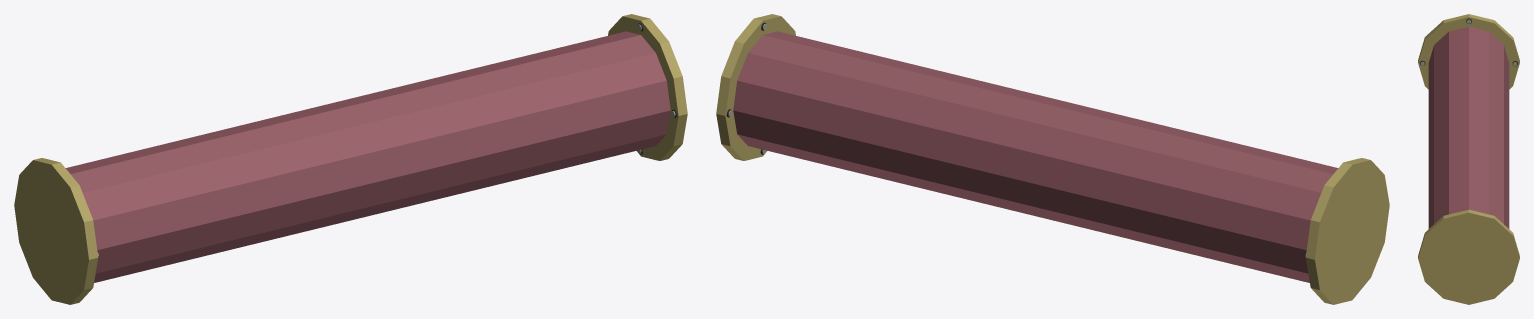
The model's file is Pipe_Long.fbx.
The picture shows the model from 3 angles, left to right: view 1: azimuth 30°, elevation 25°; view 2: azimuth 150°, elevation 25°; view 3: azimuth 270°, elevation 25°; orthographic projection. The views are drawn at different scales.
Parts seen in each view (by area): view 1: Pipe_Long, Cylinder.066, Cylinder.062; view 2: Pipe_Long, Cylinder.066, Cylinder.062; view 3: Pipe_Long, Cylinder.062, Cylinder.066.
Boxes of the visible parts, x1,y1,x2,y2 form: Pipe_Long: (65,31,670,282); Cylinder.066: (14,158,98,304); Cylinder.062: (608,14,687,160); Pipe_Long: (733,31,1338,282); Cylinder.066: (1305,158,1389,304); Cylinder.062: (716,14,795,160); Pipe_Long: (1428,26,1509,228); Cylinder.062: (1418,209,1519,304); Cylinder.066: (1418,14,1519,89).
Bounding box in the file's own units: 70 × 15.16 × 15.16.
